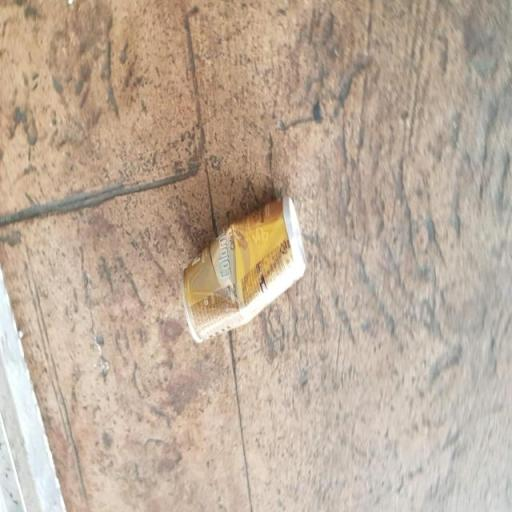metal: (153, 168, 336, 370)
